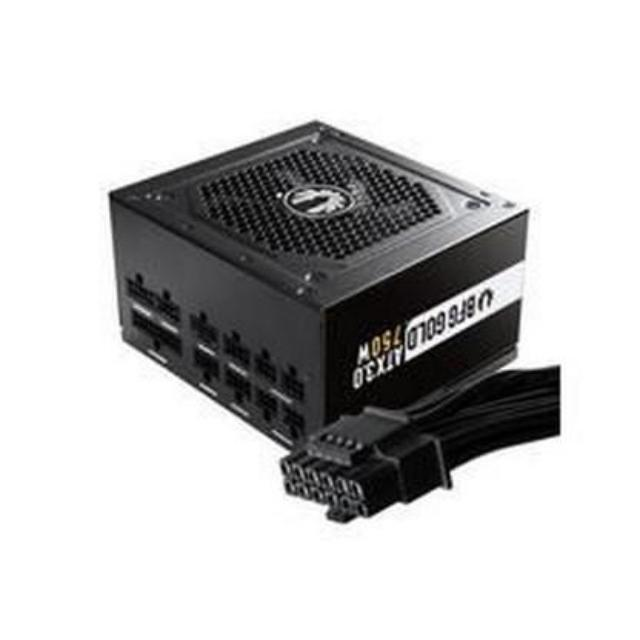PSU: (96, 112, 528, 488)
